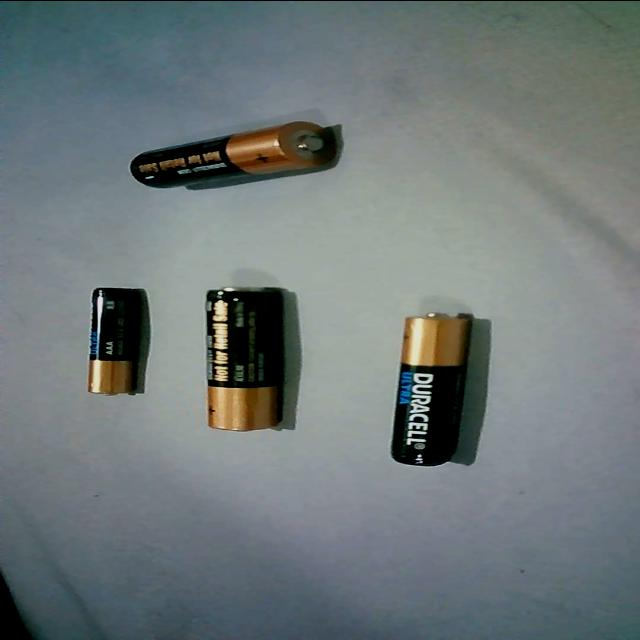AA: (125, 112, 342, 192), (194, 281, 286, 435)
AAA: (377, 310, 482, 470), (77, 281, 151, 400)
